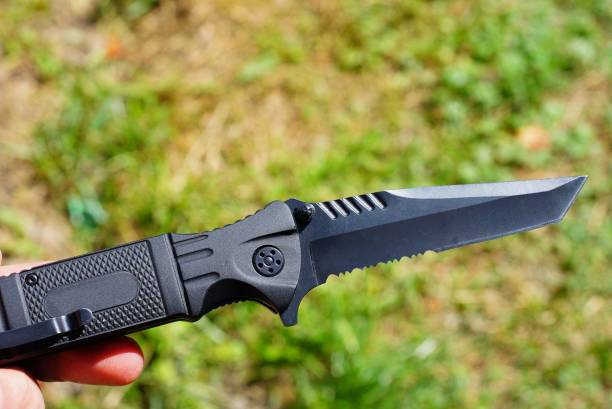knife: (0, 172, 592, 370)
